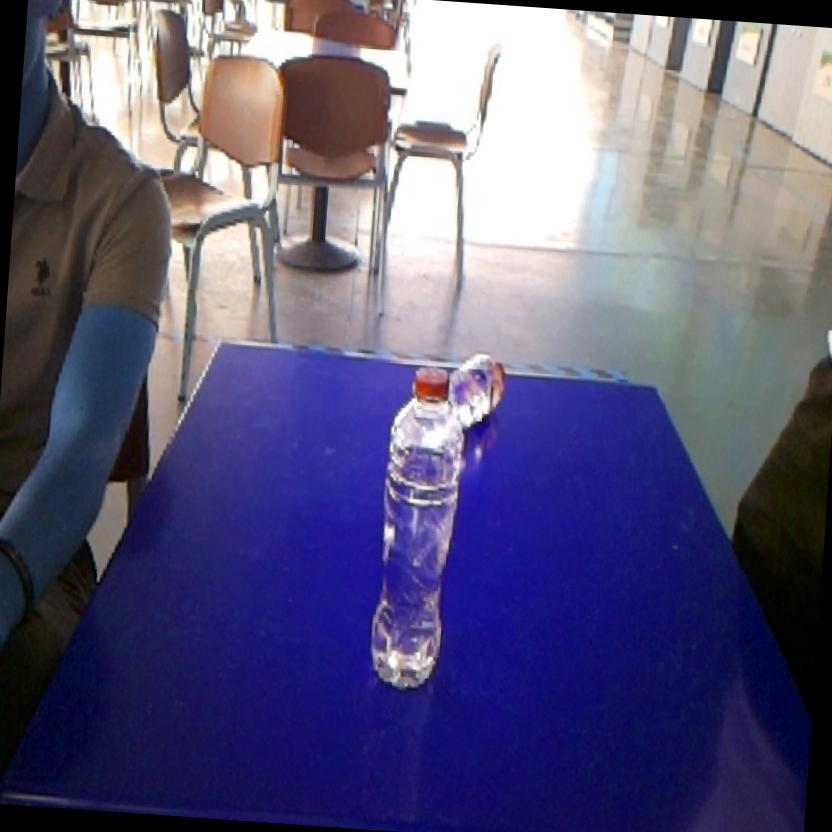no_label: (360, 356, 479, 702)
